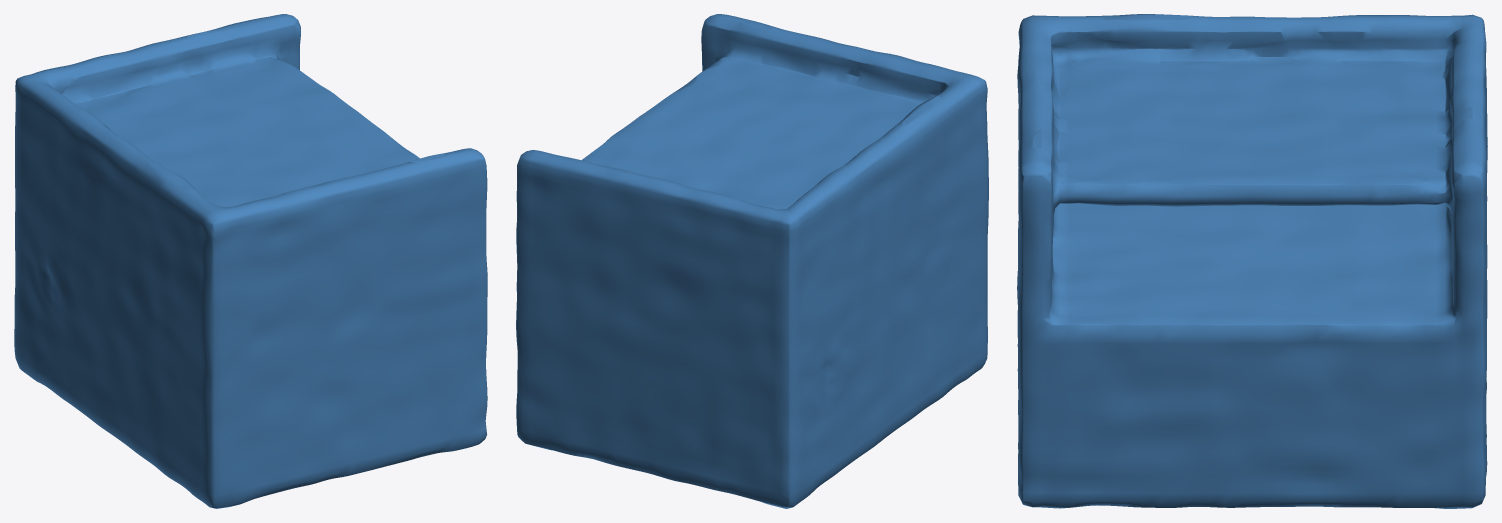
File: nightstand_8_6.obj
3 views of the same model, side by side, from view 1: azimuth 30°, elevation 25°; view 2: azimuth 150°, elevation 25°; view 3: azimuth 270°, elevation 25° (orthographic). The views are drawn at different scales.
Size of the model in its own units: 0.6492 by 0.6586 by 0.8022.
